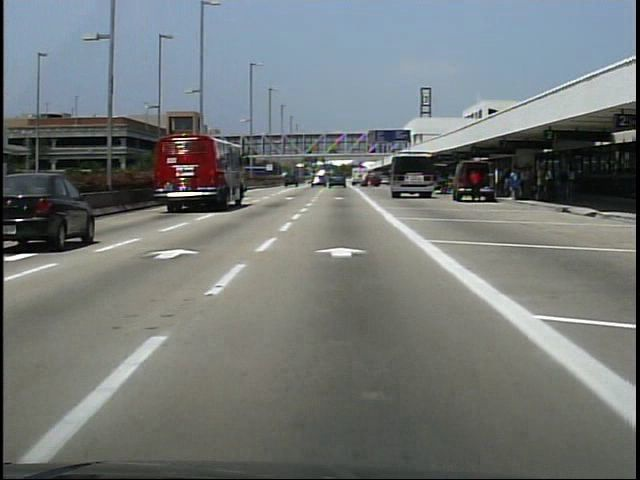person: (468, 165, 485, 205)
